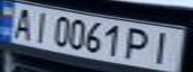0: (48, 14, 72, 47), (66, 17, 87, 52)
1: (100, 23, 127, 57)
6: (81, 20, 106, 55)
A: (6, 6, 39, 40)
I: (145, 29, 184, 65), (27, 9, 54, 43)
P: (124, 25, 154, 62)
